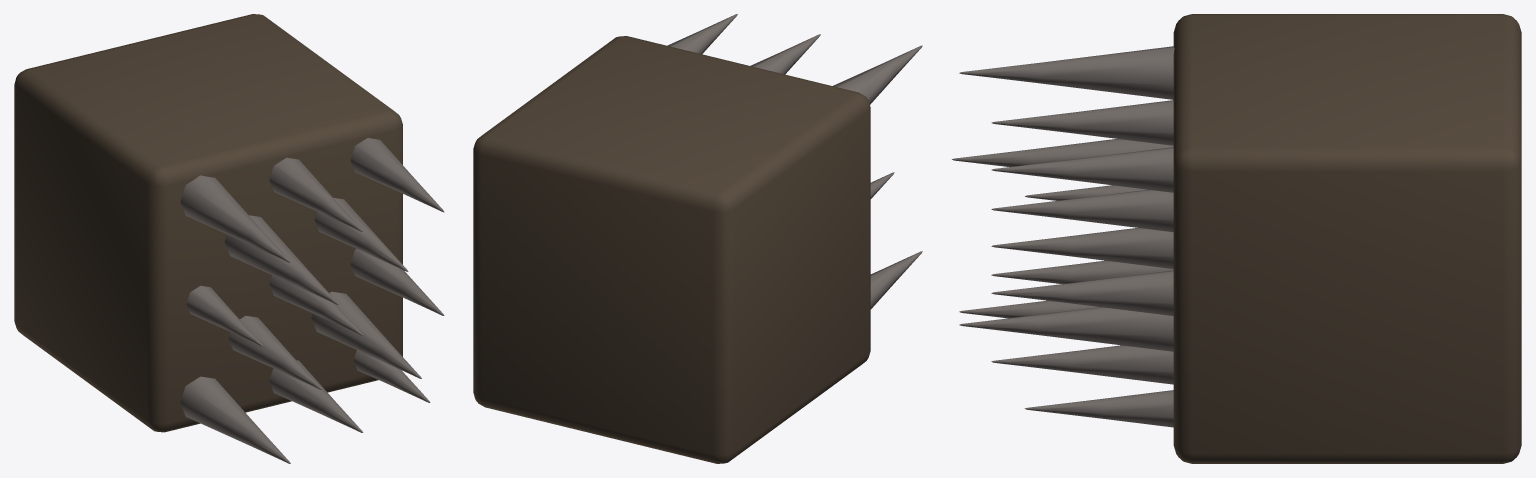
File: barrier-3.fbx
The picture shows the model from 3 angles, left to right: view 1: azimuth 30°, elevation 25°; view 2: azimuth 150°, elevation 25°; view 3: azimuth 270°, elevation 25°; orthographic projection. The views are drawn at different scales.
Parts seen in each view (by area): view 1: Cube.000; view 2: Cube.000; view 3: Cube.000.
Part boxes in pixels (x1,y1,x2,y2): Cube.000: [14, 14, 444, 463]; Cube.000: [473, 14, 922, 463]; Cube.000: [952, 14, 1521, 463].
Bounding box in the file's own units: 93.89 × 93.89 × 154.
